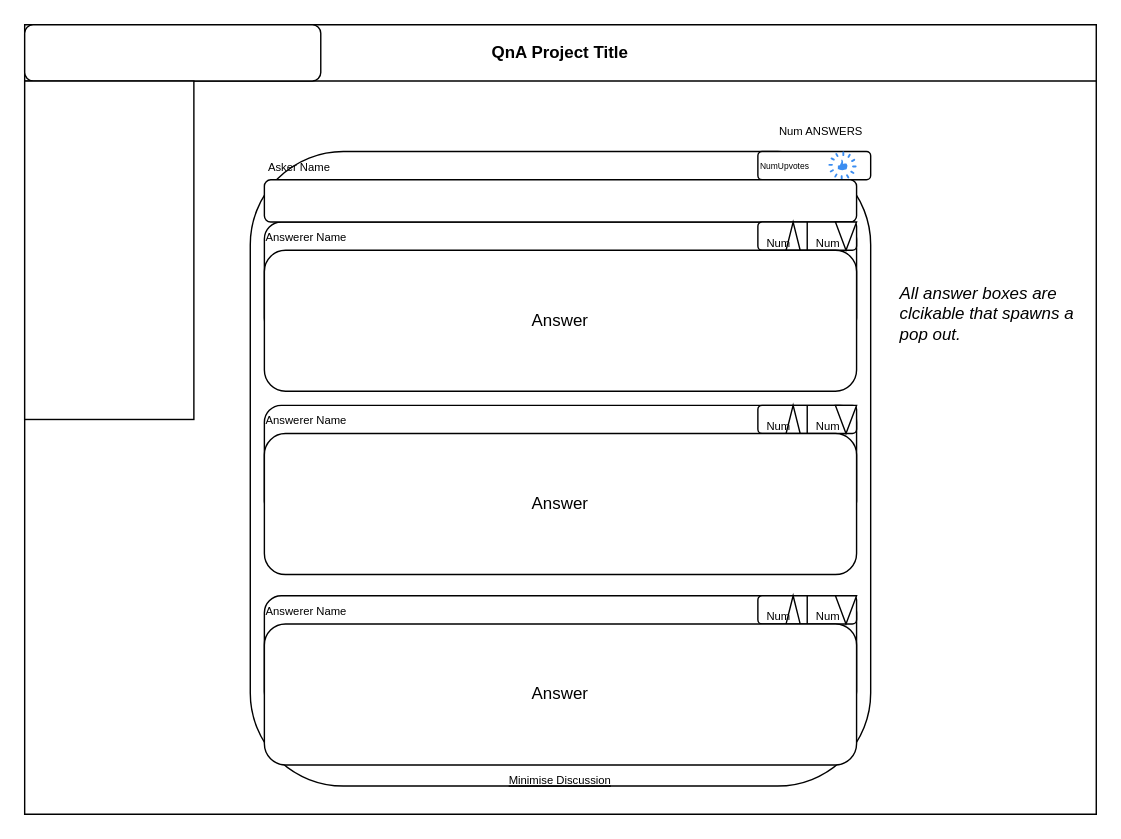
Some shapes in this 1121 by 839 pixel diagram are drawn without their labels. Here are the shapes that lost their labels. From the top down, the centre of each, then its label:
At [172,52]: "Topic Name".
At [560,200]: "Question".
At [108,249]: "Topic 1 Topic 2 Topic 3 Topic 4".
